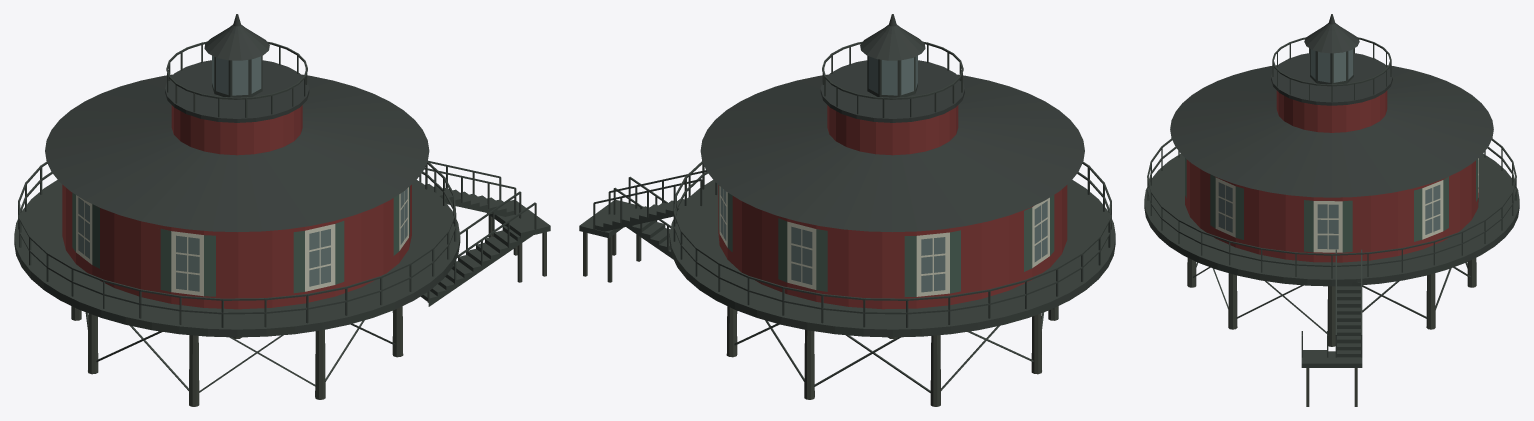
File: seven-foot-knoll-lighthouse-near.glb
3 views of the same model, side by side, from view 1: azimuth 30°, elevation 25°; view 2: azimuth 150°, elevation 25°; view 3: azimuth 270°, elevation 25° (orthographic). The views are drawn at different scales.
Visible parts, largest first — view 1: seven-foot-knoll-lighthouse-0-roof, seven-foot-knoll-lighthouse-0-steel, seven-foot-knoll-lighthouse-0-red, seven-foot-knoll-lighthouse-0-glass, seven-foot-knoll-lighthouse-0-shutter, seven-foot-knoll-lighthouse-0-column, seven-foot-knoll-lighthouse-0-white; view 2: seven-foot-knoll-lighthouse-0-roof, seven-foot-knoll-lighthouse-0-steel, seven-foot-knoll-lighthouse-0-red, seven-foot-knoll-lighthouse-0-glass, seven-foot-knoll-lighthouse-0-shutter, seven-foot-knoll-lighthouse-0-column, seven-foot-knoll-lighthouse-0-white; view 3: seven-foot-knoll-lighthouse-0-roof, seven-foot-knoll-lighthouse-0-steel, seven-foot-knoll-lighthouse-0-red, seven-foot-knoll-lighthouse-0-glass, seven-foot-knoll-lighthouse-0-shutter, seven-foot-knoll-lighthouse-0-column, seven-foot-knoll-lighthouse-0-white.
Part boxes in pixels (bbox=[...]): seven-foot-knoll-lighthouse-0-roof: bbox=[45, 14, 429, 232]; seven-foot-knoll-lighthouse-0-steel: bbox=[14, 41, 550, 392]; seven-foot-knoll-lighthouse-0-red: bbox=[62, 105, 411, 309]; seven-foot-knoll-lighthouse-0-glass: bbox=[78, 55, 407, 291]; seven-foot-knoll-lighthouse-0-shutter: bbox=[72, 186, 409, 296]; seven-foot-knoll-lighthouse-0-column: bbox=[71, 215, 546, 406]; seven-foot-knoll-lighthouse-0-white: bbox=[76, 187, 408, 296]; seven-foot-knoll-lighthouse-0-roof: bbox=[700, 14, 1084, 232]; seven-foot-knoll-lighthouse-0-steel: bbox=[579, 41, 1115, 392]; seven-foot-knoll-lighthouse-0-red: bbox=[718, 105, 1067, 309]; seven-foot-knoll-lighthouse-0-glass: bbox=[720, 55, 1047, 292]; seven-foot-knoll-lighthouse-0-shutter: bbox=[719, 185, 1054, 296]; seven-foot-knoll-lighthouse-0-column: bbox=[583, 232, 1058, 406]; seven-foot-knoll-lighthouse-0-white: bbox=[719, 186, 1049, 296]; seven-foot-knoll-lighthouse-0-roof: bbox=[1170, 14, 1493, 197]; seven-foot-knoll-lighthouse-0-steel: bbox=[1144, 37, 1519, 367]; seven-foot-knoll-lighthouse-0-red: bbox=[1185, 90, 1478, 262]; seven-foot-knoll-lighthouse-0-glass: bbox=[1218, 49, 1478, 249]; seven-foot-knoll-lighthouse-0-shutter: bbox=[1185, 158, 1477, 252]; seven-foot-knoll-lighthouse-0-column: bbox=[1187, 258, 1476, 406]; seven-foot-knoll-lighthouse-0-white: bbox=[1215, 158, 1478, 252].
Bounding box in the file's own units: 19.67 × 12.4 × 15.55.
